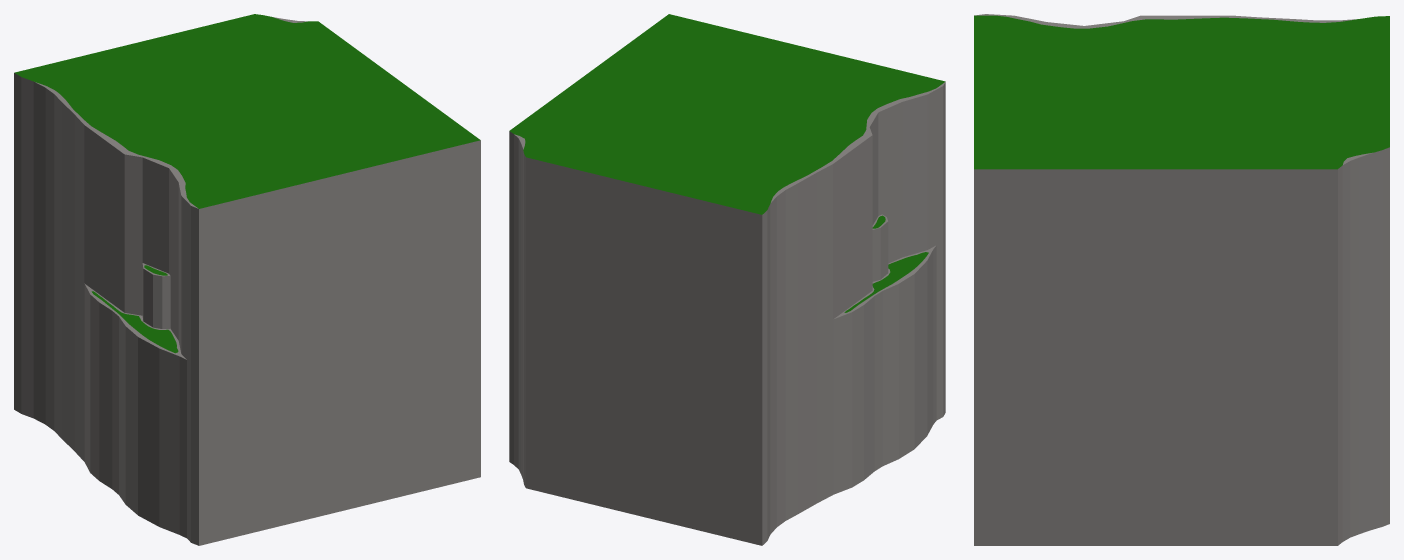
File: WedgeToPath.fbx
3 renders of one model, left to right at view 1: azimuth 30°, elevation 25°; view 2: azimuth 150°, elevation 25°; view 3: azimuth 270°, elevation 25°, orthographic. The views are drawn at different scales.
Visible parts, largest first — view 1: Plane.024; view 2: Plane.024; view 3: Plane.024.
Part boxes in pixels (x1,y1,x2,y2): Plane.024: (14, 14, 480, 545); Plane.024: (509, 14, 945, 545); Plane.024: (974, 14, 1389, 545).
Size of the model in its own units: 92.04 by 100 by 100.
